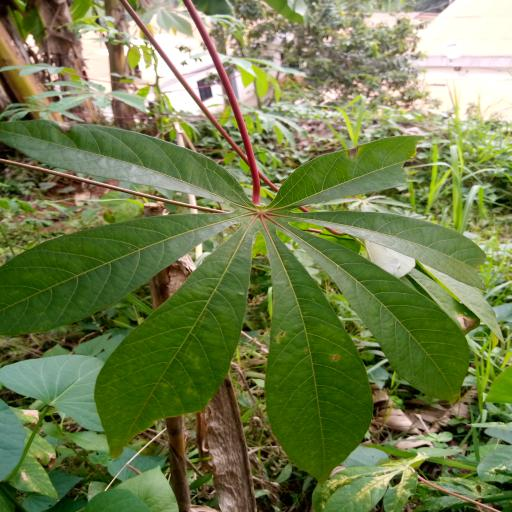Cassava_Mosaic: (0, 117, 492, 484)
